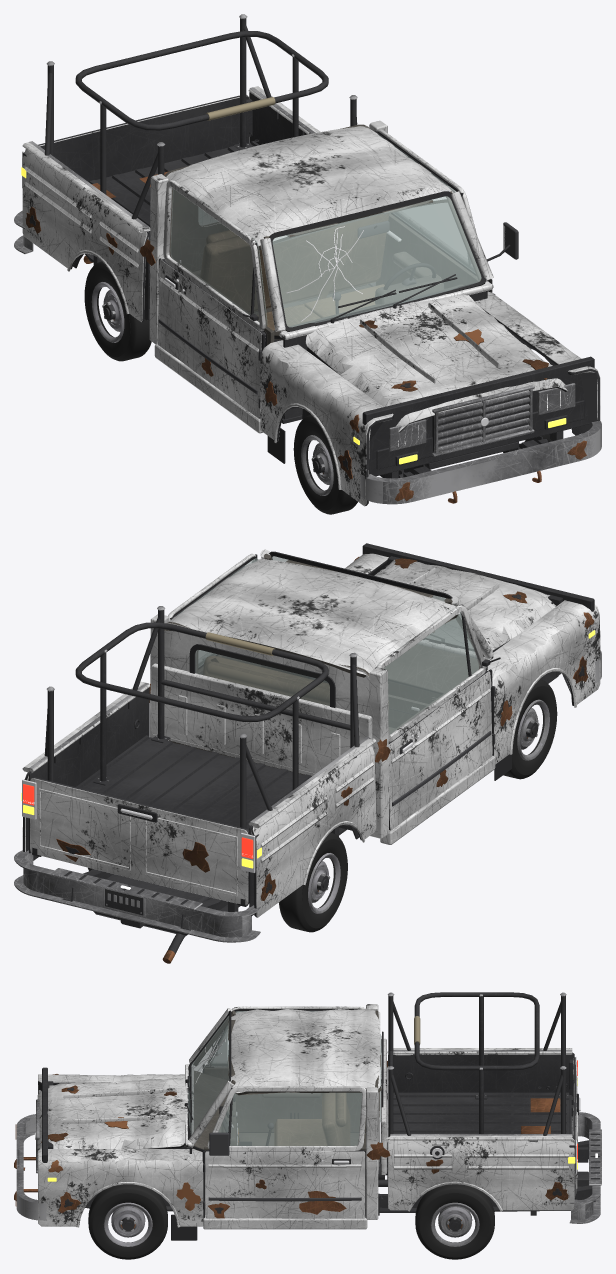
Rendered from dev_t1.glb.
The picture shows the model from 3 angles, top to bottom: view 1: azimuth 30°, elevation 25°; view 2: azimuth 150°, elevation 25°; view 3: azimuth 270°, elevation 25°; orthographic projection. The views are drawn at different scales.
Visible parts, largest first — view 1: body, panel_door_R, panel_hood, panel_fender_R, panel_tailgate, panel_bumper_F, panel_door_L, wheel_RR, panel_fender_L, wheel_FR; view 2: body, panel_door_R, panel_tailgate, panel_fender_R, panel_bumper_R, panel_hood, wheel_RR, wheel_FR, panel_door_L, panel_fender_L; view 3: body, panel_door_L, panel_fender_L, panel_hood, wheel_FL, wheel_RL, panel_bumper_R, panel_door_R, panel_bumper_F, panel_fender_R, panel_tailgate.
Part boxes in pixels (<box>): body: <box>21,14,594,503</box>; panel_door_R: <box>157,179,267,418</box>; panel_hood: <box>305,294,567,432</box>; panel_fender_R: <box>260,340,393,506</box>; panel_tailgate: <box>38,95,262,181</box>; panel_bumper_F: <box>360,421,601,504</box>; panel_door_L: <box>376,129,518,294</box>; wheel_RR: <box>84,261,151,361</box>; panel_fender_L: <box>475,291,600,435</box>; wheel_FR: <box>293,414,357,514</box>; body: <box>21,543,594,963</box>; panel_door_R: <box>377,604,500,830</box>; panel_tailgate: <box>30,777,249,906</box>; panel_fender_R: <box>487,600,600,780</box>; panel_bumper_R: <box>14,850,260,942</box>; panel_hood: <box>374,558,555,650</box>; wheel_RR: <box>278,832,347,932</box>; wheel_FR: <box>503,679,557,779</box>; panel_door_L: <box>168,553,258,669</box>; panel_fender_L: <box>345,553,388,575</box>; body: <box>14,992,595,1229</box>; panel_door_L: <box>203,1086,365,1218</box>; panel_fender_L: <box>38,1149,203,1240</box>; panel_hood: <box>37,1077,188,1160</box>; wheel_FL: <box>88,1184,167,1259</box>; wheel_RL: <box>415,1184,494,1259</box>; panel_bumper_R: <box>569,1112,601,1223</box>; panel_door_R: <box>205,1006,365,1132</box>; panel_bumper_F: <box>15,1114,46,1220</box>; panel_fender_R: <box>38,1074,184,1093</box>; panel_tailgate: <box>537,1057,580,1198</box>.
Bounding box in the file's own units: 2.08 × 1.78 × 4.95.
18 materials, 8 textured.
